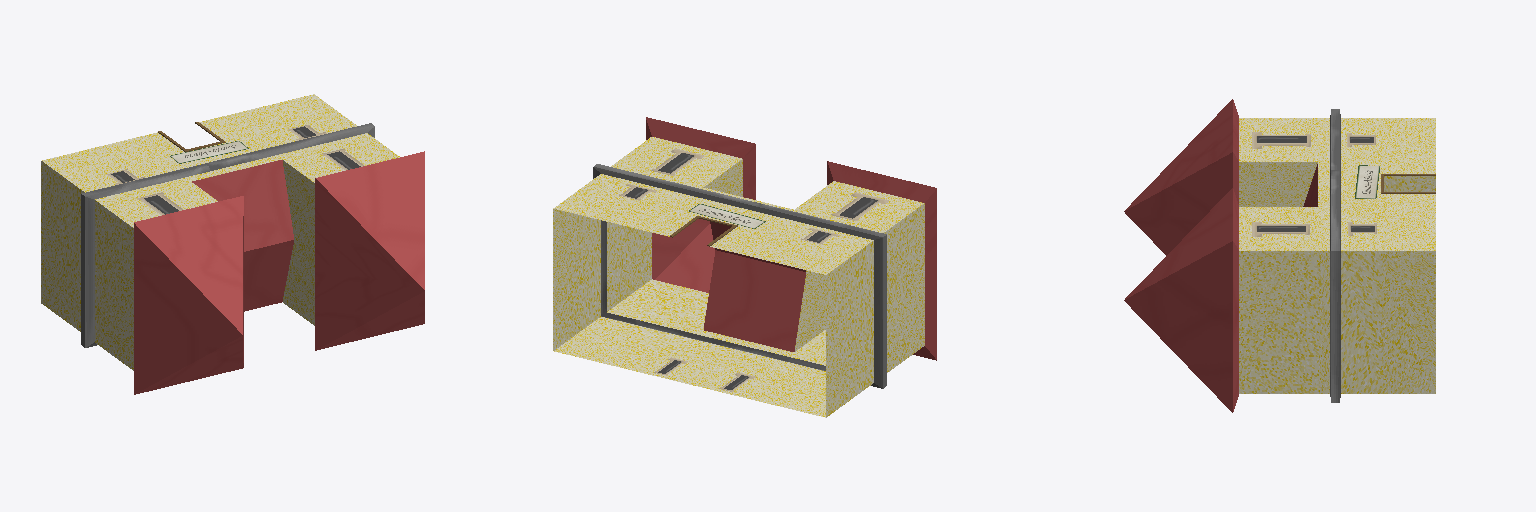
3 renders of one model, left to right at view 1: azimuth 30°, elevation 25°; view 2: azimuth 150°, elevation 25°; view 3: azimuth 270°, elevation 25°, orthographic.
Parts seen in each view (by area): view 1: Hotel, Sign; view 2: Hotel, Sign; view 3: Hotel, Sign.
Part boxes in pixels (x1,y1,x2,y2): Hotel: (41, 94, 424, 394); Sign: (170, 141, 248, 163); Hotel: (553, 117, 936, 417); Sign: (689, 204, 765, 228); Hotel: (1124, 99, 1435, 412); Sign: (1355, 165, 1379, 198).
Size of the model in its own units: 8.56 by 4.84 by 7.94.
3 materials, 3 textured.